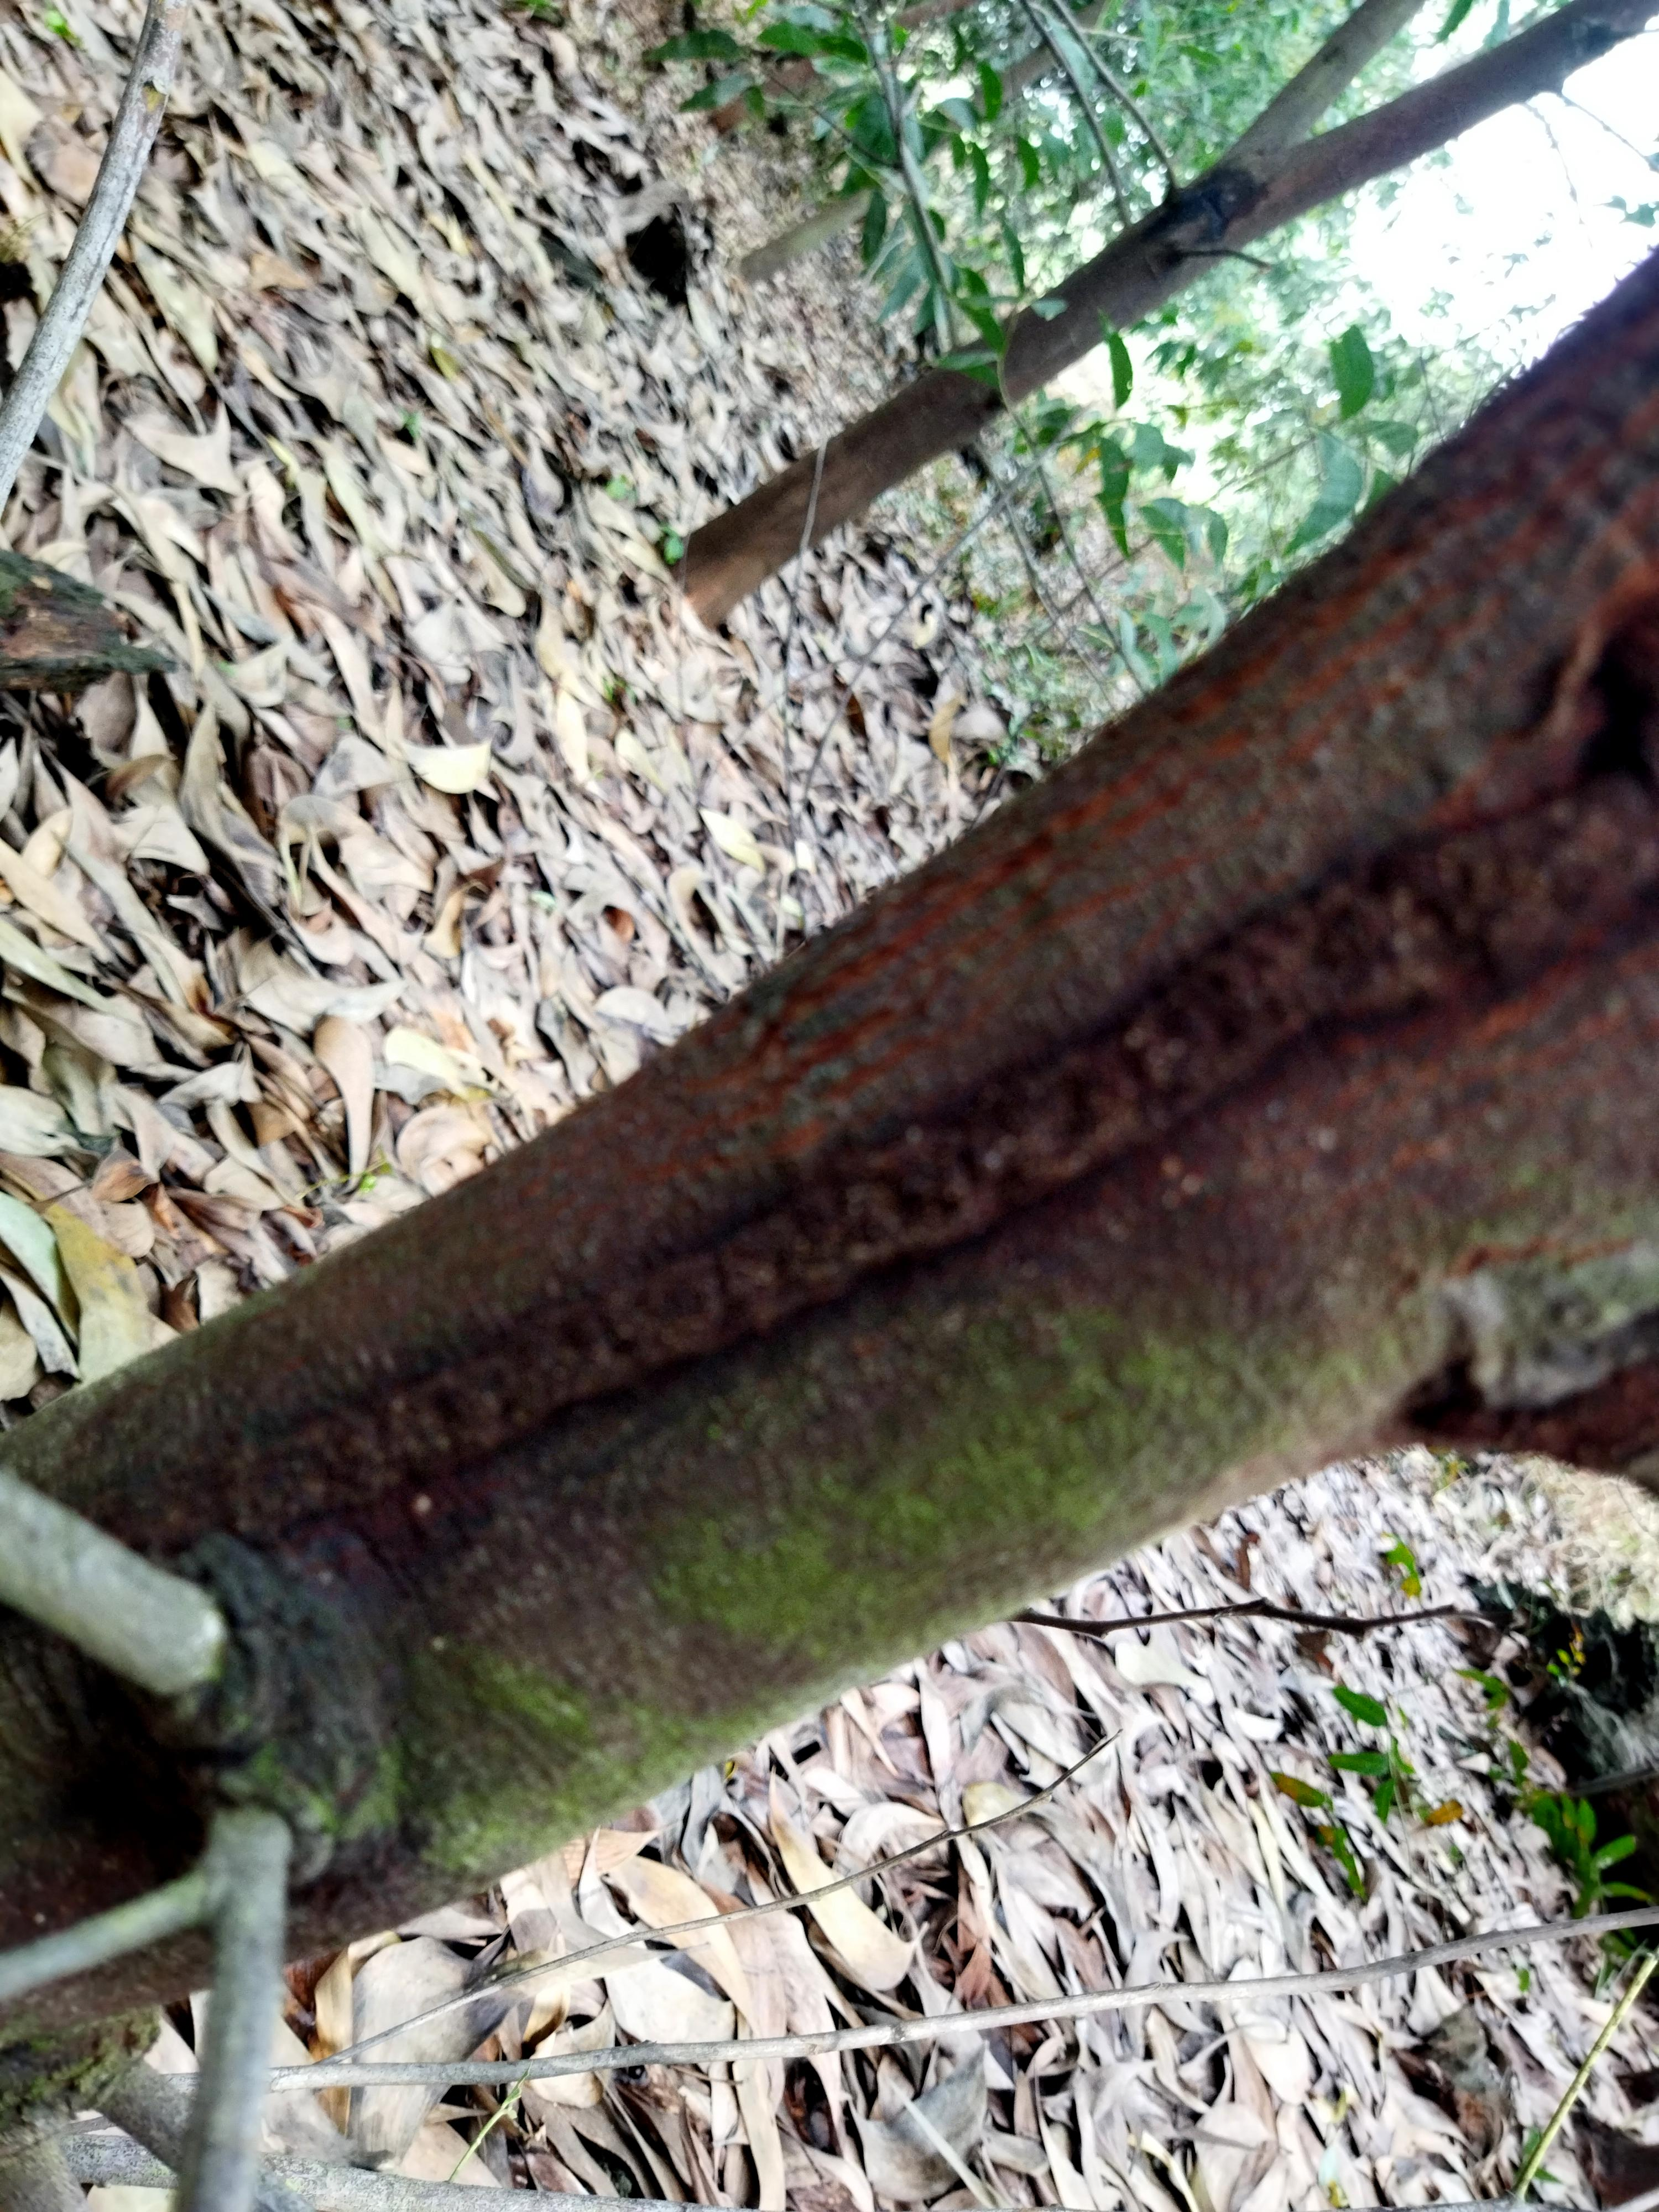Termite - Nest: (0, 732, 1659, 1583)
